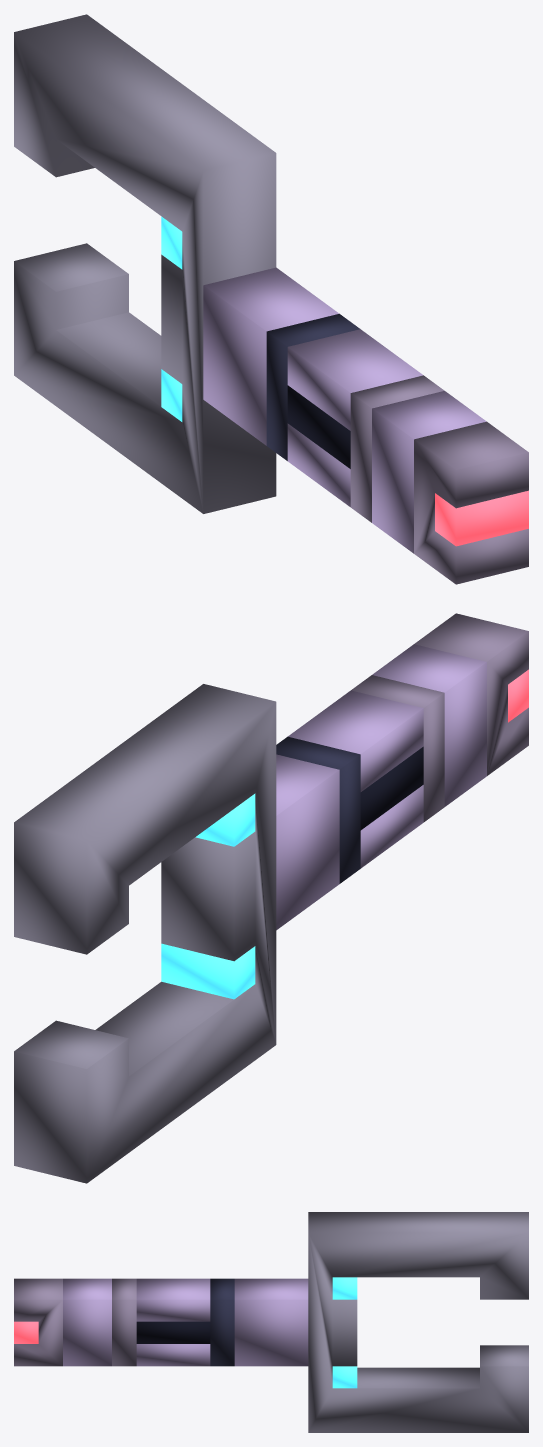
The model's file is wrench.lod1.glb.
3 renders of one model, top to bottom at view 1: azimuth 30°, elevation 25°; view 2: azimuth 150°, elevation 25°; view 3: azimuth 270°, elevation 25°, orthographic. The views are drawn at different scales.
Parts seen in each view (by area): view 1: wrench.body; view 2: wrench.body; view 3: wrench.body.
Part boxes in pixels (bbox=[...]): wrench.body: bbox=[14, 14, 528, 584]; wrench.body: bbox=[14, 613, 528, 1183]; wrench.body: bbox=[14, 1212, 528, 1432].
Bounding box in the file's own units: 0.0625 × 0.2812 × 0.6562.
